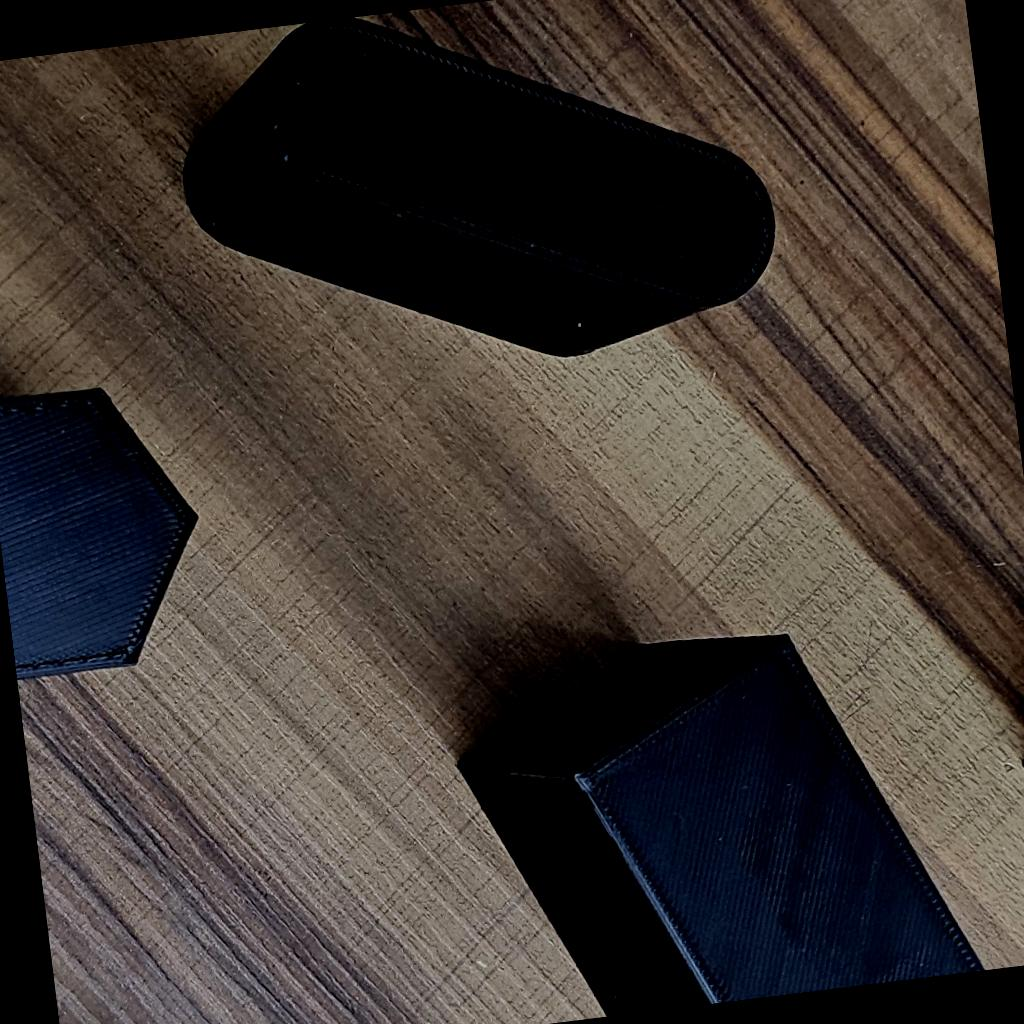hexagon: (0, 329, 234, 725)
rectangle: (410, 534, 1020, 1024)
